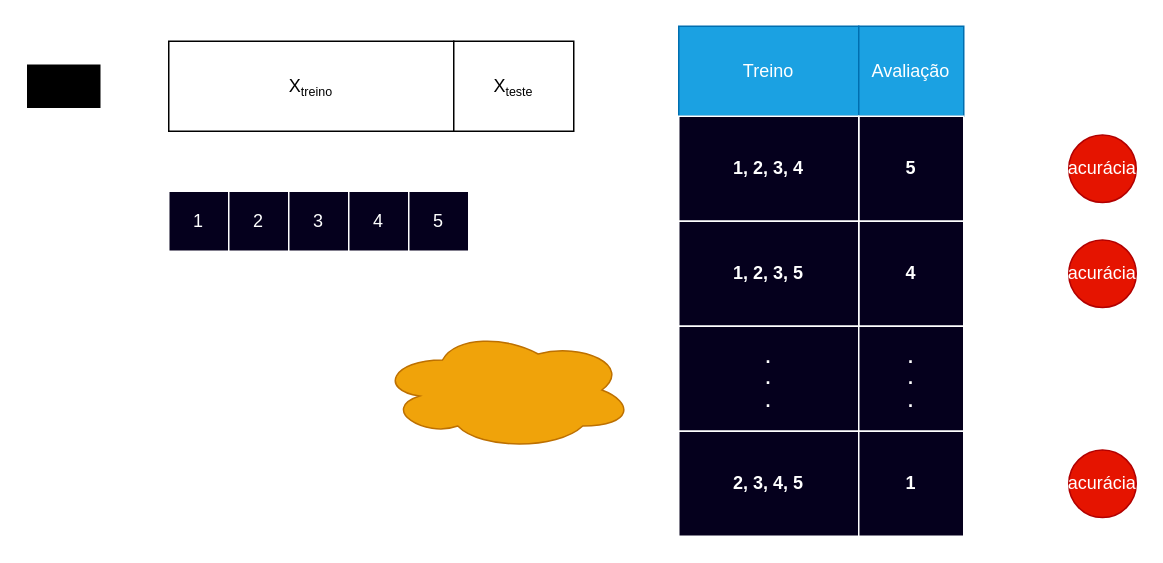
This 1163x563 diagram has some shape labels left out. The box of each missing label's shape, as (x1, y1, x2, y2) in pixels:
(x,y):: (25, 62, 101, 109)
cross_val_score: (377, 328, 634, 450)
